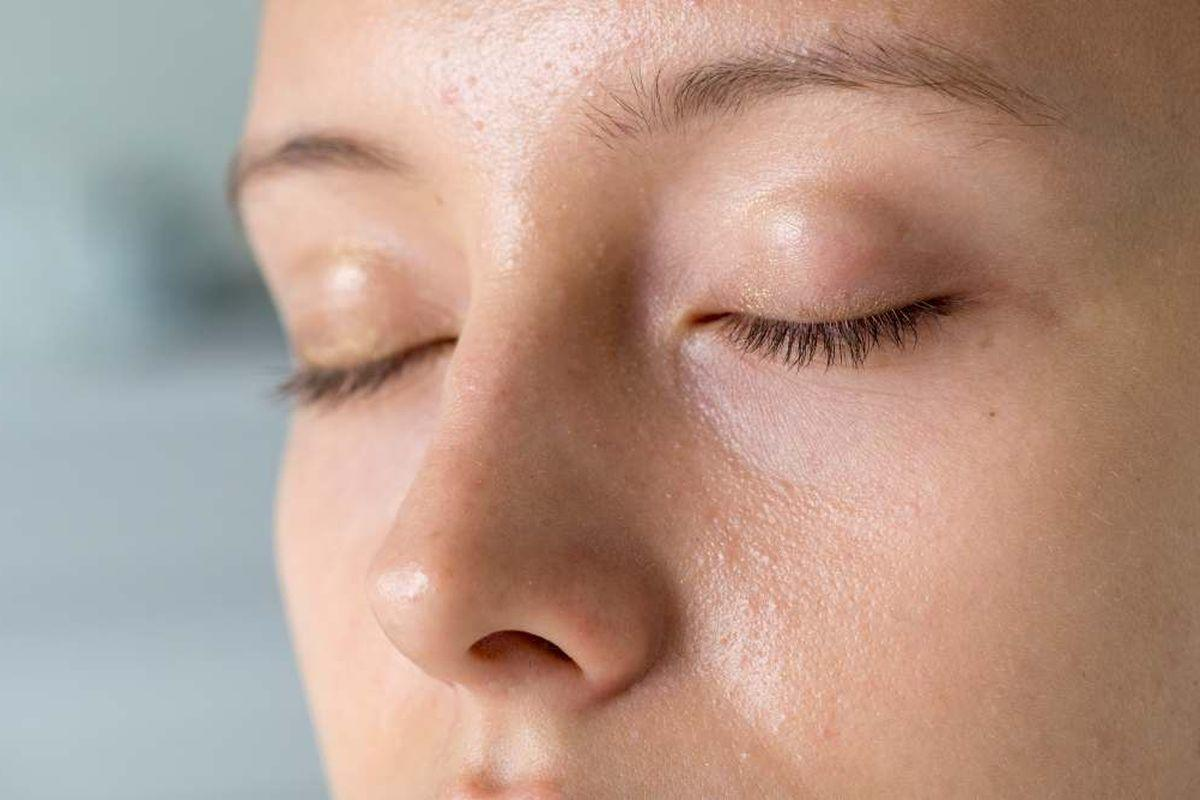Drowsy: (217, 0, 1200, 800)
